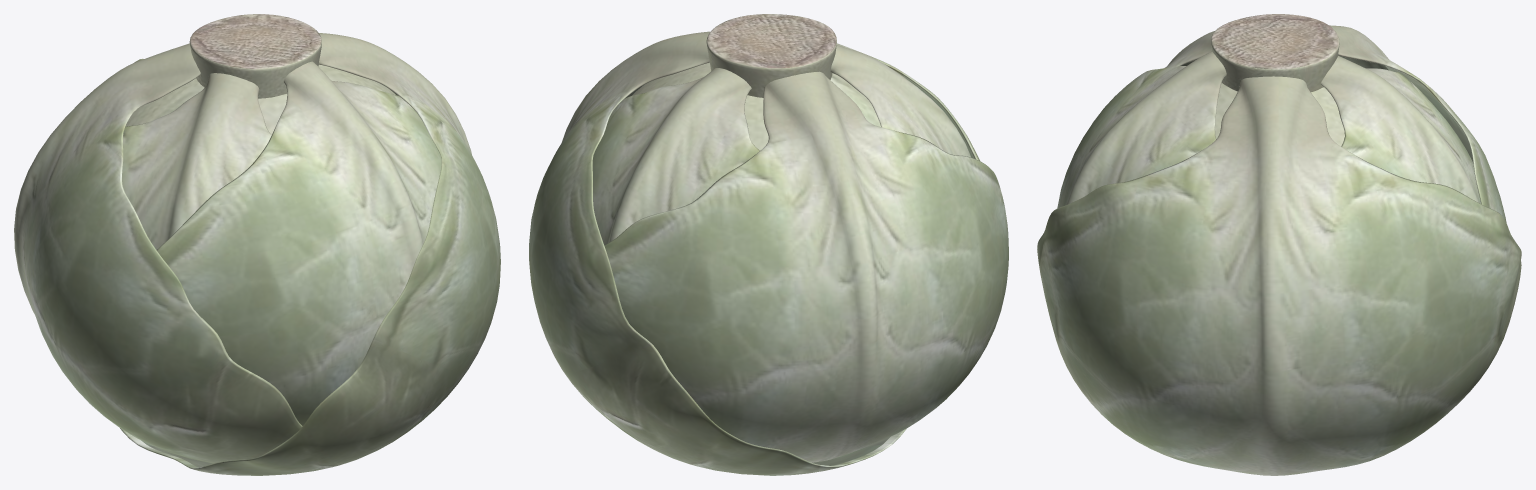
The model's file is VegetableCabbage.fbx.
The picture shows the model from 3 angles, left to right: view 1: azimuth 30°, elevation 25°; view 2: azimuth 150°, elevation 25°; view 3: azimuth 270°, elevation 25°; orthographic projection.
Visible parts, largest first — view 1: 12209_Vegetable_v1_L3; view 2: 12209_Vegetable_v1_L3; view 3: 12209_Vegetable_v1_L3.
Boxes of the visible parts, left/top/right/bottom form: 12209_Vegetable_v1_L3: left=14, top=14, right=500, bottom=475; 12209_Vegetable_v1_L3: left=529, top=14, right=1008, bottom=475; 12209_Vegetable_v1_L3: left=1037, top=14, right=1521, bottom=475.
Size of the model in its own units: 1936 by 1798 by 1931.
Materials: 1 (1 with a texture image).
